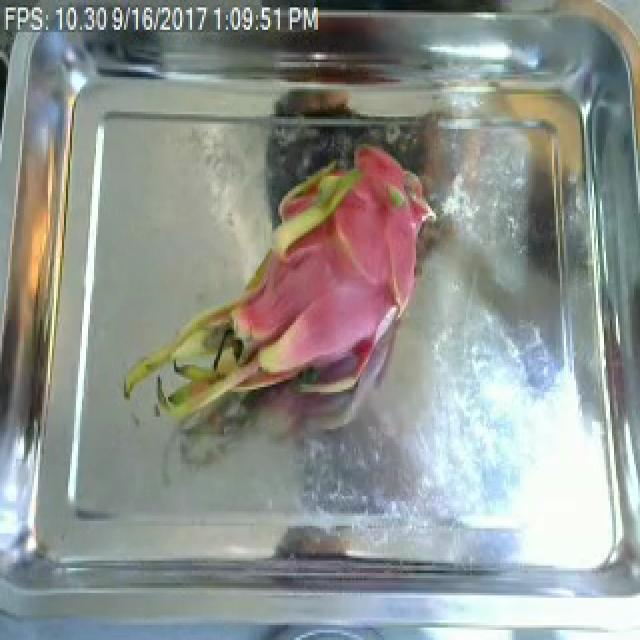fruit: (112, 121, 430, 466)
